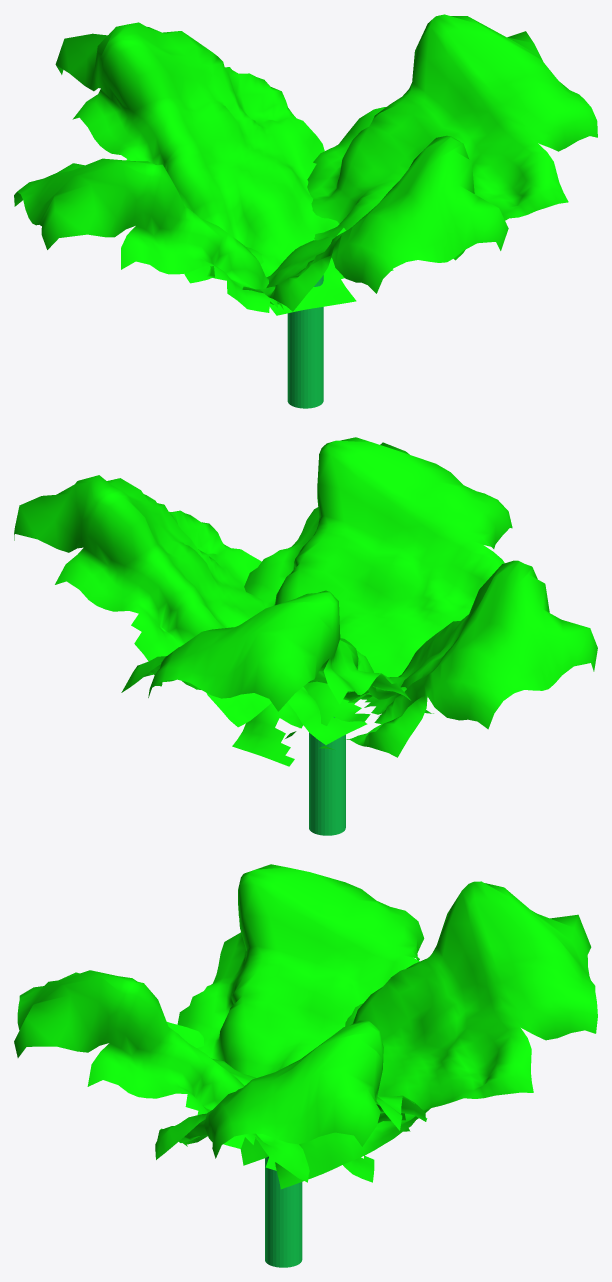
The model's file is leaf1.glb.
3 renders of one model, top to bottom at view 1: azimuth 30°, elevation 25°; view 2: azimuth 150°, elevation 25°; view 3: azimuth 270°, elevation 25°, orthographic. The views are drawn at different scales.
Parts seen in each view (by area): view 1: 平面.002, 平面.003, 平面.004, 平面.001, 円柱; view 2: 平面.001, 平面.003, 平面.004, 平面.002, 円柱; view 3: 平面.002, 平面.004, 平面.001, 平面.003, 円柱.
Part boxes in pixels (box(x1,y1,x2,y2)): 平面.002: box(55, 22, 393, 315); 平面.003: box(307, 14, 597, 260); 平面.004: box(14, 158, 283, 312); 平面.001: box(242, 135, 508, 311); 円柱: box(287, 275, 323, 408); 平面.001: box(232, 437, 512, 766); 平面.003: box(14, 475, 367, 744); 平面.004: box(285, 560, 597, 757); 平面.002: box(121, 590, 433, 713); 円柱: box(309, 717, 345, 835); 平面.002: box(240, 881, 597, 1189); 平面.004: box(177, 864, 424, 1170); 平面.001: box(14, 970, 374, 1182); 平面.003: box(155, 1020, 427, 1159); 円柱: box(265, 1156, 302, 1267).
Size of the model in its own units: 3.4 by 1.96 by 3.12.
